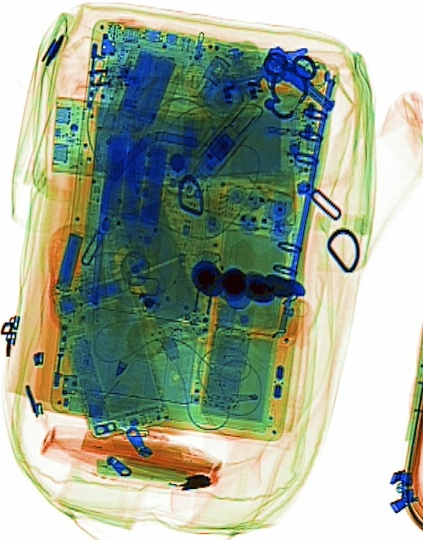powerbank: (90, 127, 171, 256), (98, 42, 185, 152)
